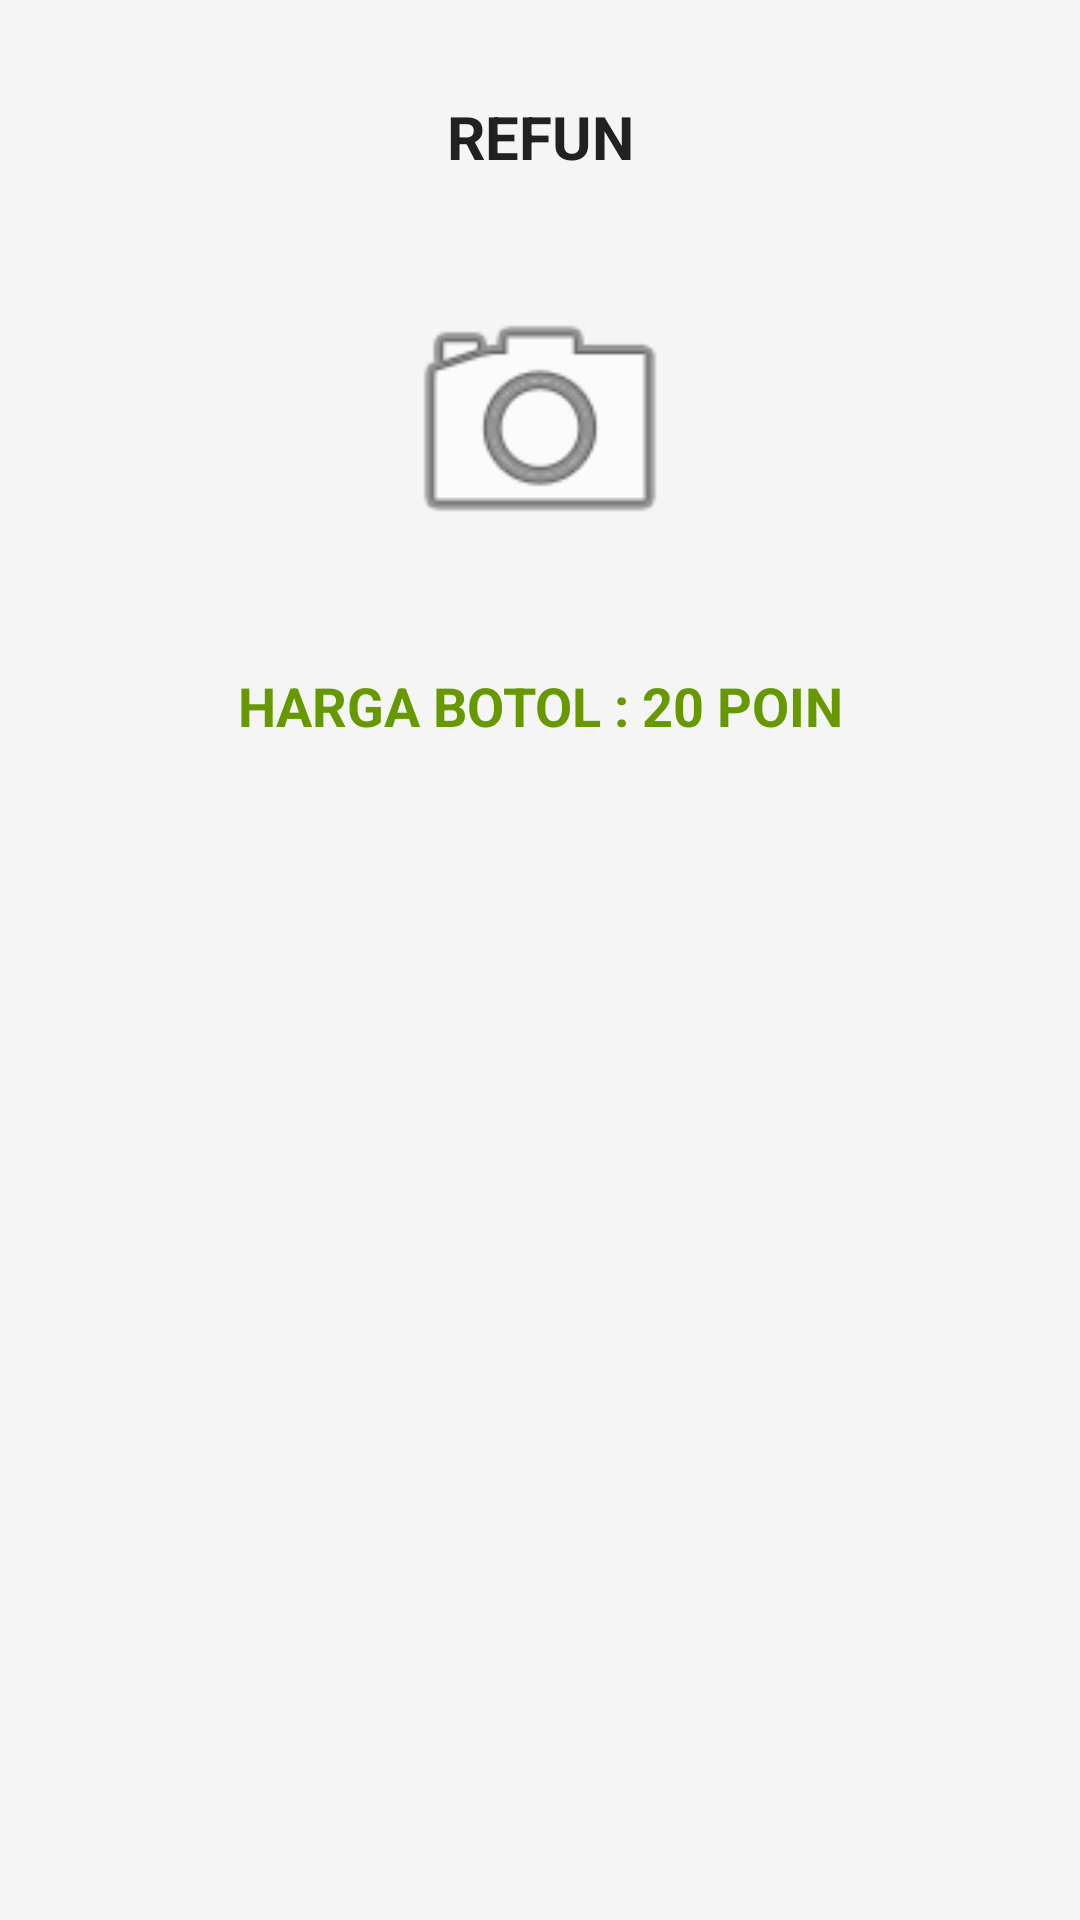

Screen size 1080w x 1920h. Icon name, then its center in pixels as [x,y]:
camera: [540,418]
